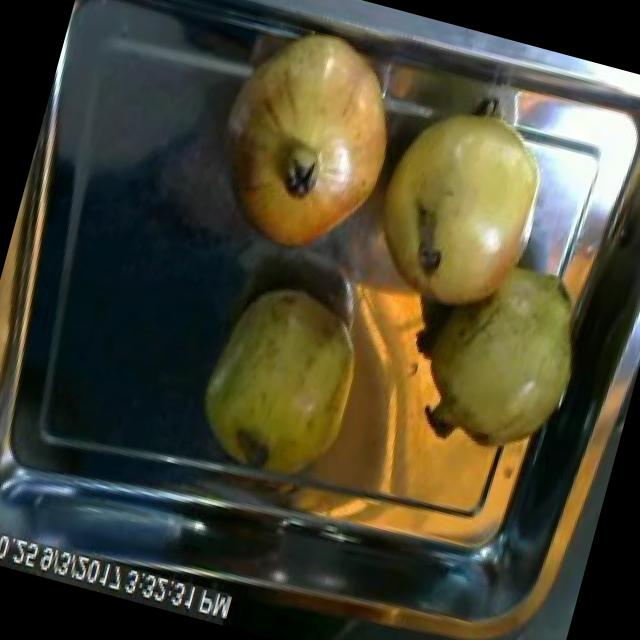fruit: (345, 61, 588, 344), (184, 3, 426, 285), (180, 258, 392, 509), (397, 229, 602, 476)
